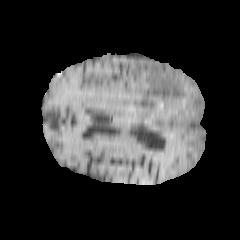glioma: (119, 63, 186, 123)
